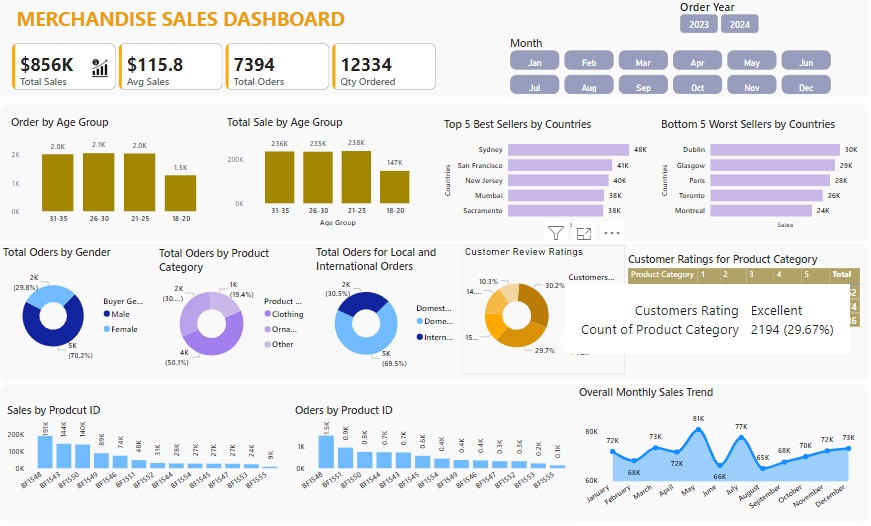

The page's visual inventory and layout, read from the dashboard file:
{"tool":"powerbi","page":{"name":"Page 1","canvas":[1800,900],"ordinal":0},"visuals":[{"type":"shape","box":[70.2,14.9,1423.4,159.6],"z":0},{"type":"shape","box":[1502.1,8.5,283,400],"z":1000},{"type":"shape","box":[70.2,185.1,1423.4,225.5],"z":2000},{"type":"shape","box":[70.2,414.9,1423.4,225.5],"z":3000},{"type":"shape","box":[70.2,644.7,1423.4,225.5],"z":4000},{"type":"cardVisual","fields":{"Data":["Sum(Data.Total Sales)","Data.Avg Sales","Data.Total Oders","Sum(Data.Quantity)"]},"box":[85.1,80.9,708.5,87.2],"z":5000},{"type":"columnChart","title":"Order by Age Group","fields":{"Category":["Data.Age Group"],"Y":["Data.Total Oders"]},"box":[83,202.1,342.6,189.4],"z":6000},{"type":"columnChart","title":"Total Sale by Age Group","fields":{"Category":["Data.Age Group"],"Y":["Sum(Data.Total Sales)"]},"box":[438.3,202.1,336.2,189.4],"z":7000},{"type":"barChart","title":"Top 5 Best Sellers by Countries","fields":{"Y":["Sum(Data.Total Sales)"],"Category":["Data.Order Location"]},"box":[793.6,204.3,344.7,189.4],"z":8000},{"type":"barChart","title":"Bottom 5 Worst Sellers by Countries","fields":{"Y":["Sum(Data.Total Sales)"],"Category":["Data.Order Location"]},"box":[1148.9,204.3,336.2,189.4],"z":9000},{"type":"donutChart","title":"Total Oders by Gender","fields":{"Category":["Data.Buyer Gender"],"Y":["Data.Total Oders"]},"box":[70.2,414.9,255.3,212.8],"z":10000},{"type":"donutChart","fields":{"Y":["Data.Total Oders"],"Category":["Data.Product Category"]},"box":[326.2,416.7,257.1,211.9],"z":11000},{"type":"pivotTable","title":"Customer Ratings for Product Category","fields":{"Rows":["Data.Product Category"],"Columns":["Data.Rating"],"Values":["Sum(Data.Rating)"]},"box":[1095.2,421.4,397.6,159.5],"z":12000},{"type":"columnChart","title":"Sales by Prodcut ID","fields":{"Category":["Data.Product ID"],"Y":["Sum(Data.Total Sales)"]},"box":[76.6,674.5,466,159.6],"z":13000},{"type":"columnChart","title":"Oders by Product ID","fields":{"Category":["Data.Product ID"],"Y":["Data.Total Oders"]},"box":[548.9,674.5,466,159.6],"z":14000},{"type":"donutChart","title":"Customer Review Ratings","fields":{"Y":["CountNonNull(Data.Product Category)"],"Category":["Data.Customers Rating"]},"box":[828.6,416.7,266.7,211.9],"z":15000},{"type":"shape","box":[1501.9,413.5,284.6,455.8],"z":16000},{"type":"textbox","box":[76.9,17.3,578.8,53.8],"z":17000},{"type":"donutChart","title":"Total Oders for Local and International Orders","fields":{"Category":["Data.Domestic or International Orders"],"Y":["Data.Total Oders"]},"box":[583.3,414.3,245.2,214.3],"z":18000},{"type":"advancedSlicerVisual","fields":{"Values":["Data.Order Year"]},"box":[1180.9,12.8,206.4,61.7],"z":19000},{"type":"lineChart","title":"Overall Monthly Sales Trend","fields":{"Y":["Sum(Data.Total Sales)"],"Category":["Data.Order Date.Variation.Date Hierarchy.Month"]},"box":[1014.9,644.7,466,225.5],"z":20000},{"type":"advancedSlicerVisual","title":"Month","fields":{"Values":["Data.Order Month"]},"box":[902.1,72.3,538.3,102.1],"z":21000},{"type":"textbox","box":[1508.6,8.6,101.7,36.2],"z":22000},{"type":"textbox","box":[1508.9,41.1,269.6,360.7],"z":23000},{"type":"textbox","box":[1519.2,426.9,132.7,36.5],"z":24000},{"type":"textbox","box":[1505.3,457.9,277.2,396.5],"z":25000}]}

Visuals, with their boxes on the page's 1800x900 design canvas (x1, y1, x2, y2). These are canvas units, not pixel positions in the 871x526 screenshot, which may show the page scaled, cropped or inside an application window:
shape: (70,15,1494,174)
shape: (1502,8,1785,408)
shape: (70,185,1494,411)
shape: (70,415,1494,640)
shape: (70,645,1494,870)
cardVisual - Sum(Data.Total Sales) x Data.Avg Sales: (85,81,794,168)
"Order by Age Group" columnChart: (83,202,426,392)
"Total Sale by Age Group" columnChart: (438,202,774,392)
"Top 5 Best Sellers by Countries" barChart: (794,204,1138,394)
"Bottom 5 Worst Sellers by Countries" barChart: (1149,204,1485,394)
"Total Oders by Gender" donutChart: (70,415,326,628)
donutChart - Data.Total Oders x Data.Product Category: (326,417,583,629)
"Customer Ratings for Product Category" pivotTable: (1095,421,1493,581)
"Sales by Prodcut ID" columnChart: (77,674,543,834)
"Oders by Product ID" columnChart: (549,674,1015,834)
"Customer Review Ratings" donutChart: (829,417,1095,629)
shape: (1502,414,1786,869)
textbox: (77,17,656,71)
"Total Oders for Local and International Orders" donutChart: (583,414,828,629)
advancedSlicerVisual - Data.Order Year: (1181,13,1387,74)
"Overall Monthly Sales Trend" lineChart: (1015,645,1481,870)
"Month" advancedSlicerVisual: (902,72,1440,174)
textbox: (1509,9,1610,45)
textbox: (1509,41,1778,402)
textbox: (1519,427,1652,463)
textbox: (1505,458,1782,854)
